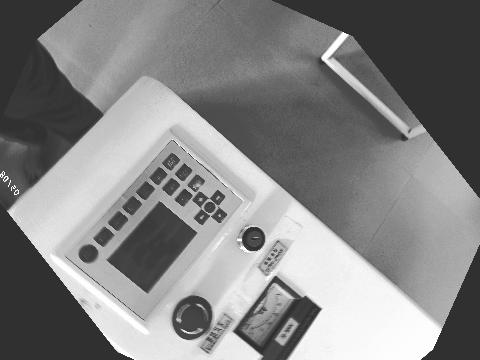Amp_Meter: (236, 279, 300, 346)
Display: (109, 202, 196, 291)
Down_button: (193, 192, 207, 206)
Emergency_Stop: (172, 296, 212, 340)
Enter_button: (188, 175, 204, 191)
Esc_button: (176, 189, 192, 206)
File_button: (150, 168, 167, 184)
Frame_button: (176, 164, 192, 181)
Left_button: (195, 210, 209, 225)
Max-Power_button: (137, 182, 154, 199)
Min-Power_button: (124, 197, 141, 215)
Origin_button: (163, 179, 179, 195)
Power_switch: (241, 226, 264, 251)
Pulse_button: (94, 228, 113, 246)
Reset_button: (80, 245, 97, 262)
Right_button: (211, 190, 225, 205)
Speed_button: (109, 212, 127, 230)
Start-Pause_button: (163, 154, 179, 170)
Up_button: (212, 208, 227, 223)
Z_U_button: (204, 202, 215, 213)
